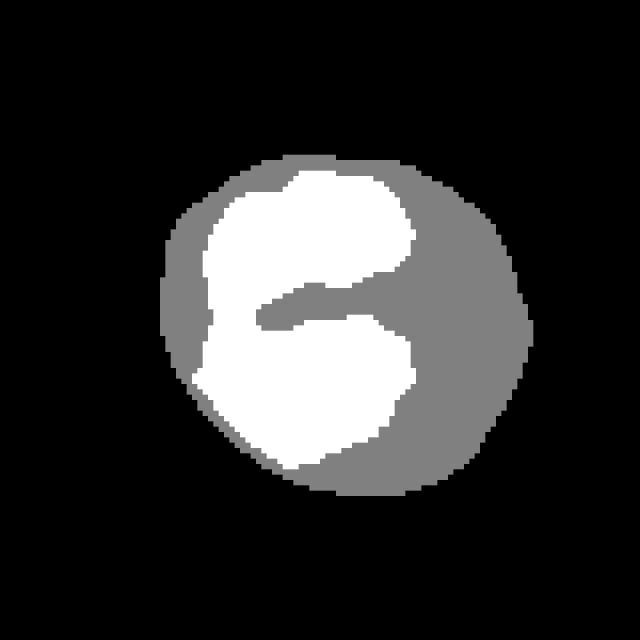WBC: (139, 150, 544, 518)
